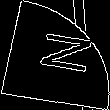N_W: (22, 31, 88, 79)
